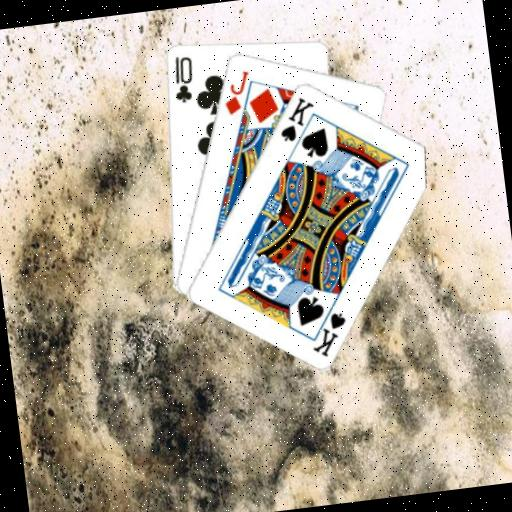10C: (167, 51, 198, 105)
JD: (218, 66, 255, 117)
KS: (304, 299, 351, 360), (273, 92, 319, 144)
